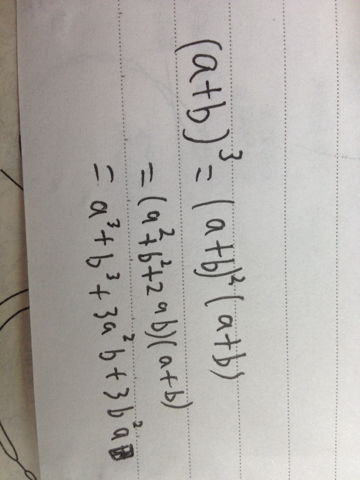cube: (217, 146, 246, 162), (103, 270, 122, 283), (106, 214, 121, 230)
square: (157, 225, 176, 243), (225, 273, 248, 285), (120, 330, 136, 344), (157, 258, 172, 268), (131, 419, 144, 428)
